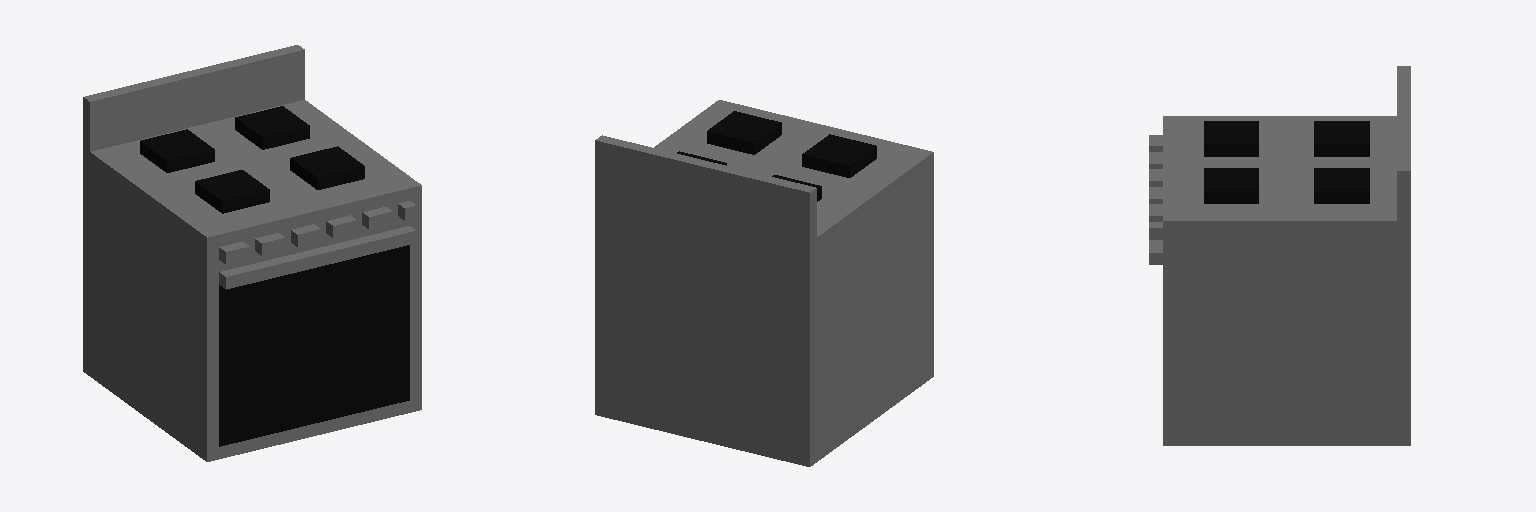
3 views of the same model, side by side, from view 1: azimuth 30°, elevation 25°; view 2: azimuth 150°, elevation 25°; view 3: azimuth 270°, elevation 25° (orthographic).
Parts seen in each view (by area): view 1: stove; view 2: stove; view 3: stove.
Boxes of the visible parts, <box> form: stove: <box>83,45,421,461</box>; stove: <box>595,100,933,466</box>; stove: <box>1149,66,1410,445</box>.
Size of the model in its own units: 18 by 22 by 19.
Materials: 1 (1 with a texture image).